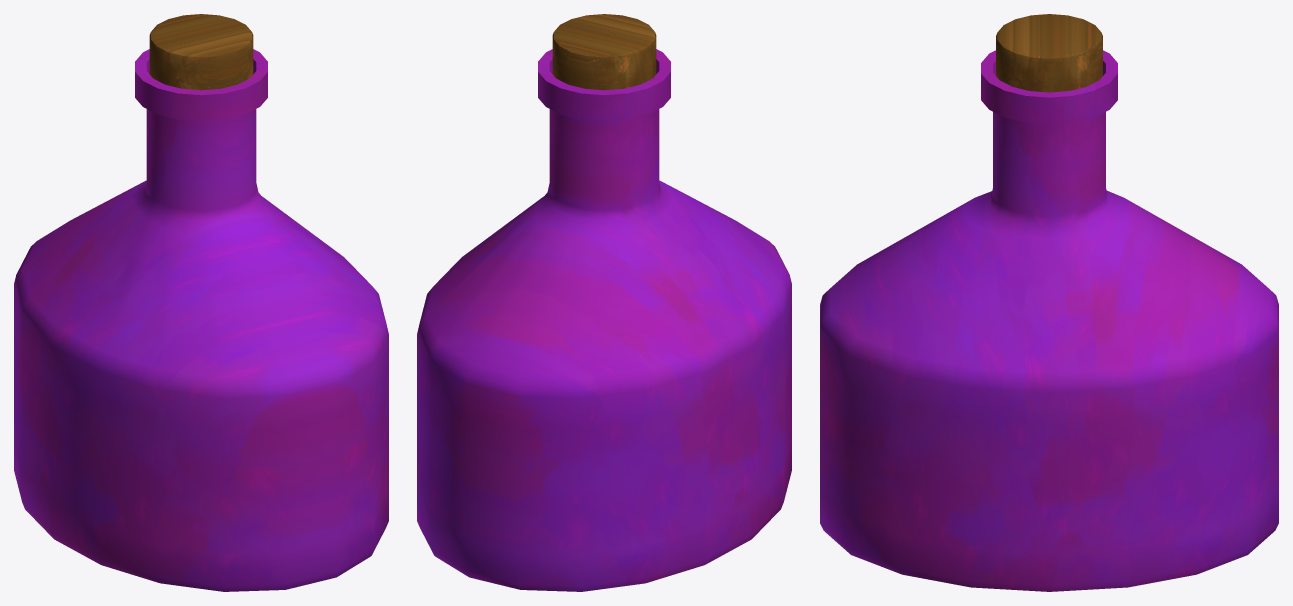
Rendered from House_Bottle03_v01.fbx.
3 views of the same model, side by side, from view 1: azimuth 30°, elevation 25°; view 2: azimuth 150°, elevation 25°; view 3: azimuth 270°, elevation 25° (orthographic). The views are drawn at different scales.
Visible parts, largest first — view 1: BottleBody_03, BottleCap_03; view 2: BottleBody_03, BottleCap_03; view 3: BottleBody_03, BottleCap_03.
Part boxes in pixels (bbox=[...]): BottleBody_03: bbox=[14, 49, 388, 591]; BottleCap_03: bbox=[149, 14, 253, 90]; BottleBody_03: bbox=[417, 49, 791, 591]; BottleCap_03: bbox=[552, 14, 656, 90]; BottleBody_03: bbox=[820, 50, 1278, 591]; BottleCap_03: bbox=[996, 14, 1102, 92].
Bounding box in the file's own units: 6 × 7.73 × 9.03.
Materials: 2 (2 with a texture image).
